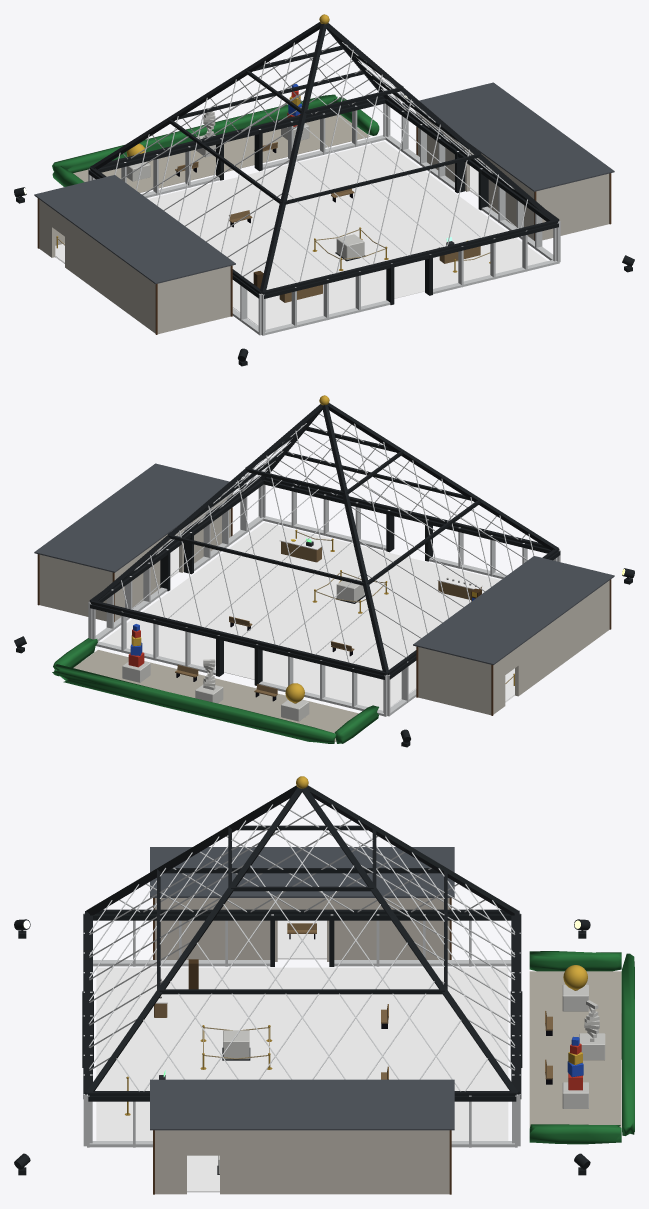
The model's file is tf-gallery-p4.glb.
3 views of the same model, one above another, from view 1: azimuth 30°, elevation 25°; view 2: azimuth 150°, elevation 25°; view 3: azimuth 270°, elevation 25° (orthographic). The views are drawn at different scales.
Parts seen in each view (by area): view 1: tf-gallery-p4; view 2: tf-gallery-p4; view 3: tf-gallery-p4.
Part boxes in pixels (<box>): tf-gallery-p4: <box>14,14,634,366</box>; tf-gallery-p4: <box>14,395,634,747</box>; tf-gallery-p4: <box>14,776,634,1194</box>.
Size of the model in its own units: 40.5 by 18.66 by 37.7.
